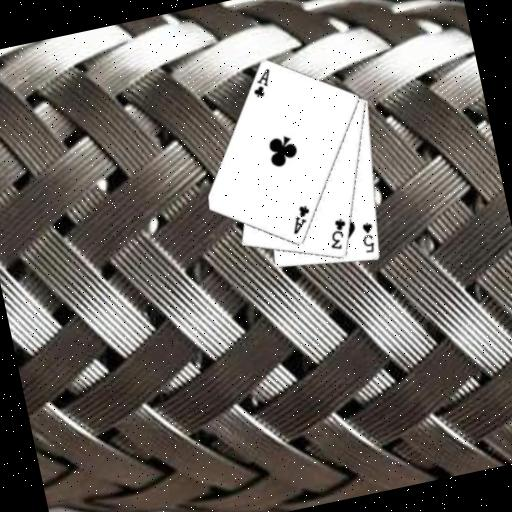3C: (322, 214, 352, 253)
5S: (356, 219, 379, 256)
AC: (246, 65, 277, 100), (285, 201, 315, 236)
